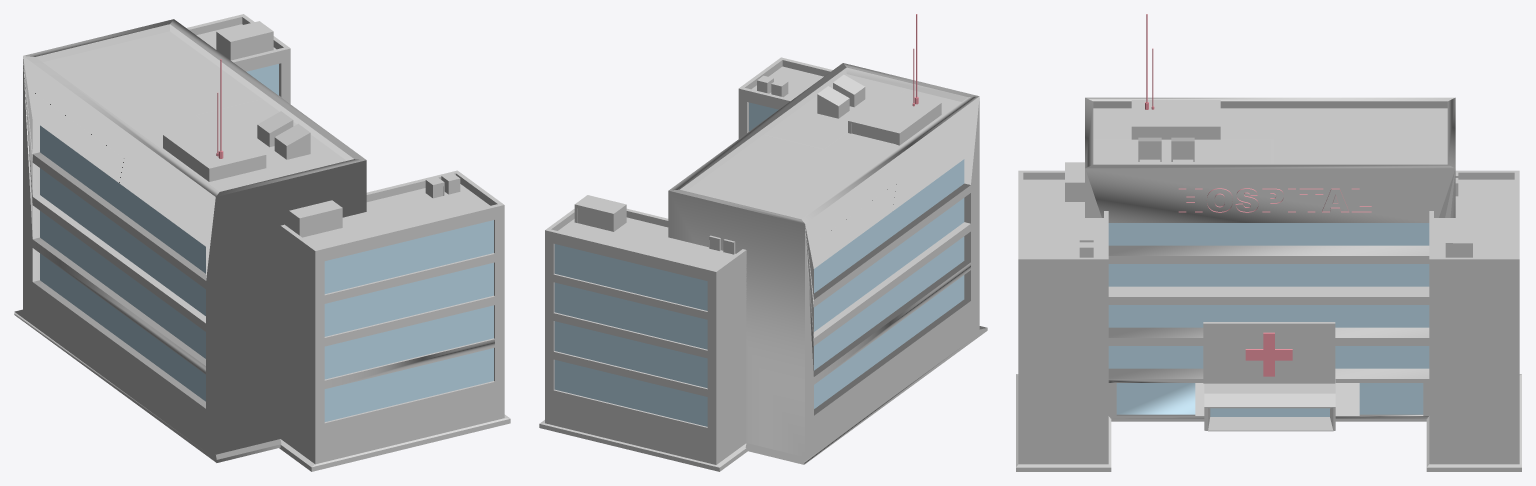
File: hospital1.glb
3 renders of one model, left to right at view 1: azimuth 30°, elevation 25°; view 2: azimuth 150°, elevation 25°; view 3: azimuth 270°, elevation 25°, orthographic. The views are drawn at different scales.
Visible parts, largest first — view 1: Cube_305; view 2: Cube_305; view 3: Cube_305.
Part boxes in pixels (<box>): Cube_305: <box>14,14,510,471</box>; Cube_305: <box>539,14,987,471</box>; Cube_305: <box>1016,14,1521,471</box>.
Bounding box in the file's own units: 3.49 × 4.67 × 6.06.
